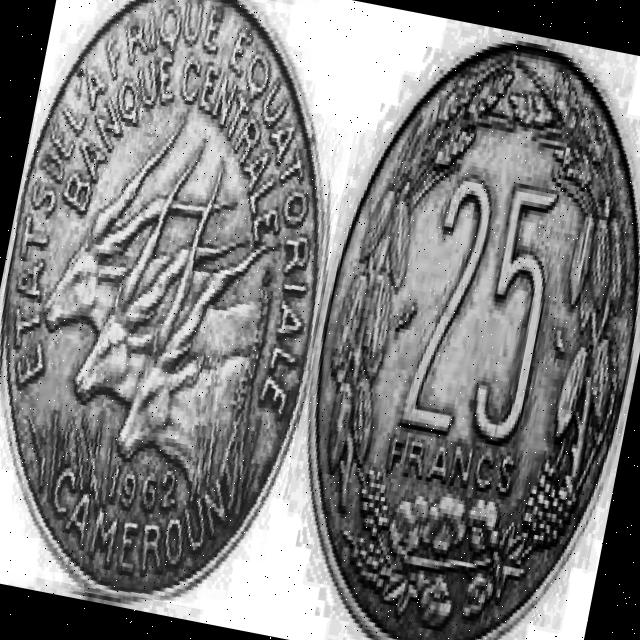juroom derem: (312, 45, 638, 640), (6, 0, 321, 598)
